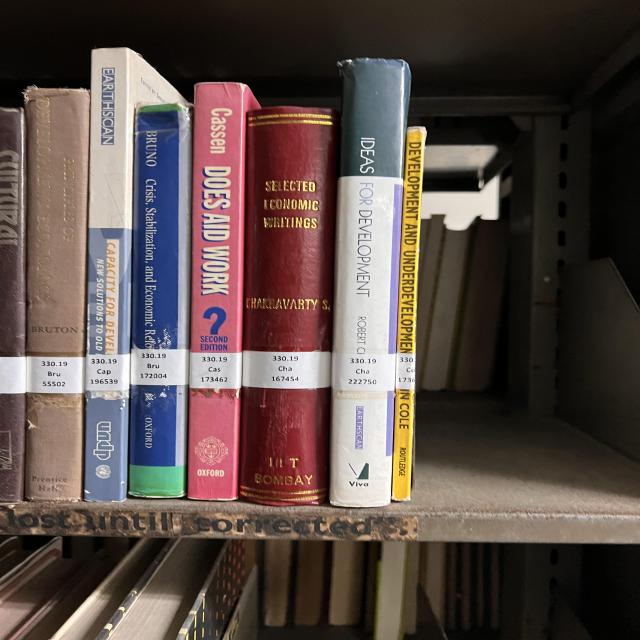Book: (83, 48, 183, 501), (240, 106, 338, 505), (330, 59, 410, 508), (187, 82, 258, 500), (25, 88, 90, 501), (128, 104, 192, 498), (392, 126, 427, 501)
Label: (242, 351, 332, 389), (332, 352, 395, 391), (27, 356, 85, 394), (130, 349, 188, 385), (190, 352, 242, 389), (85, 354, 130, 391), (395, 352, 415, 390)
